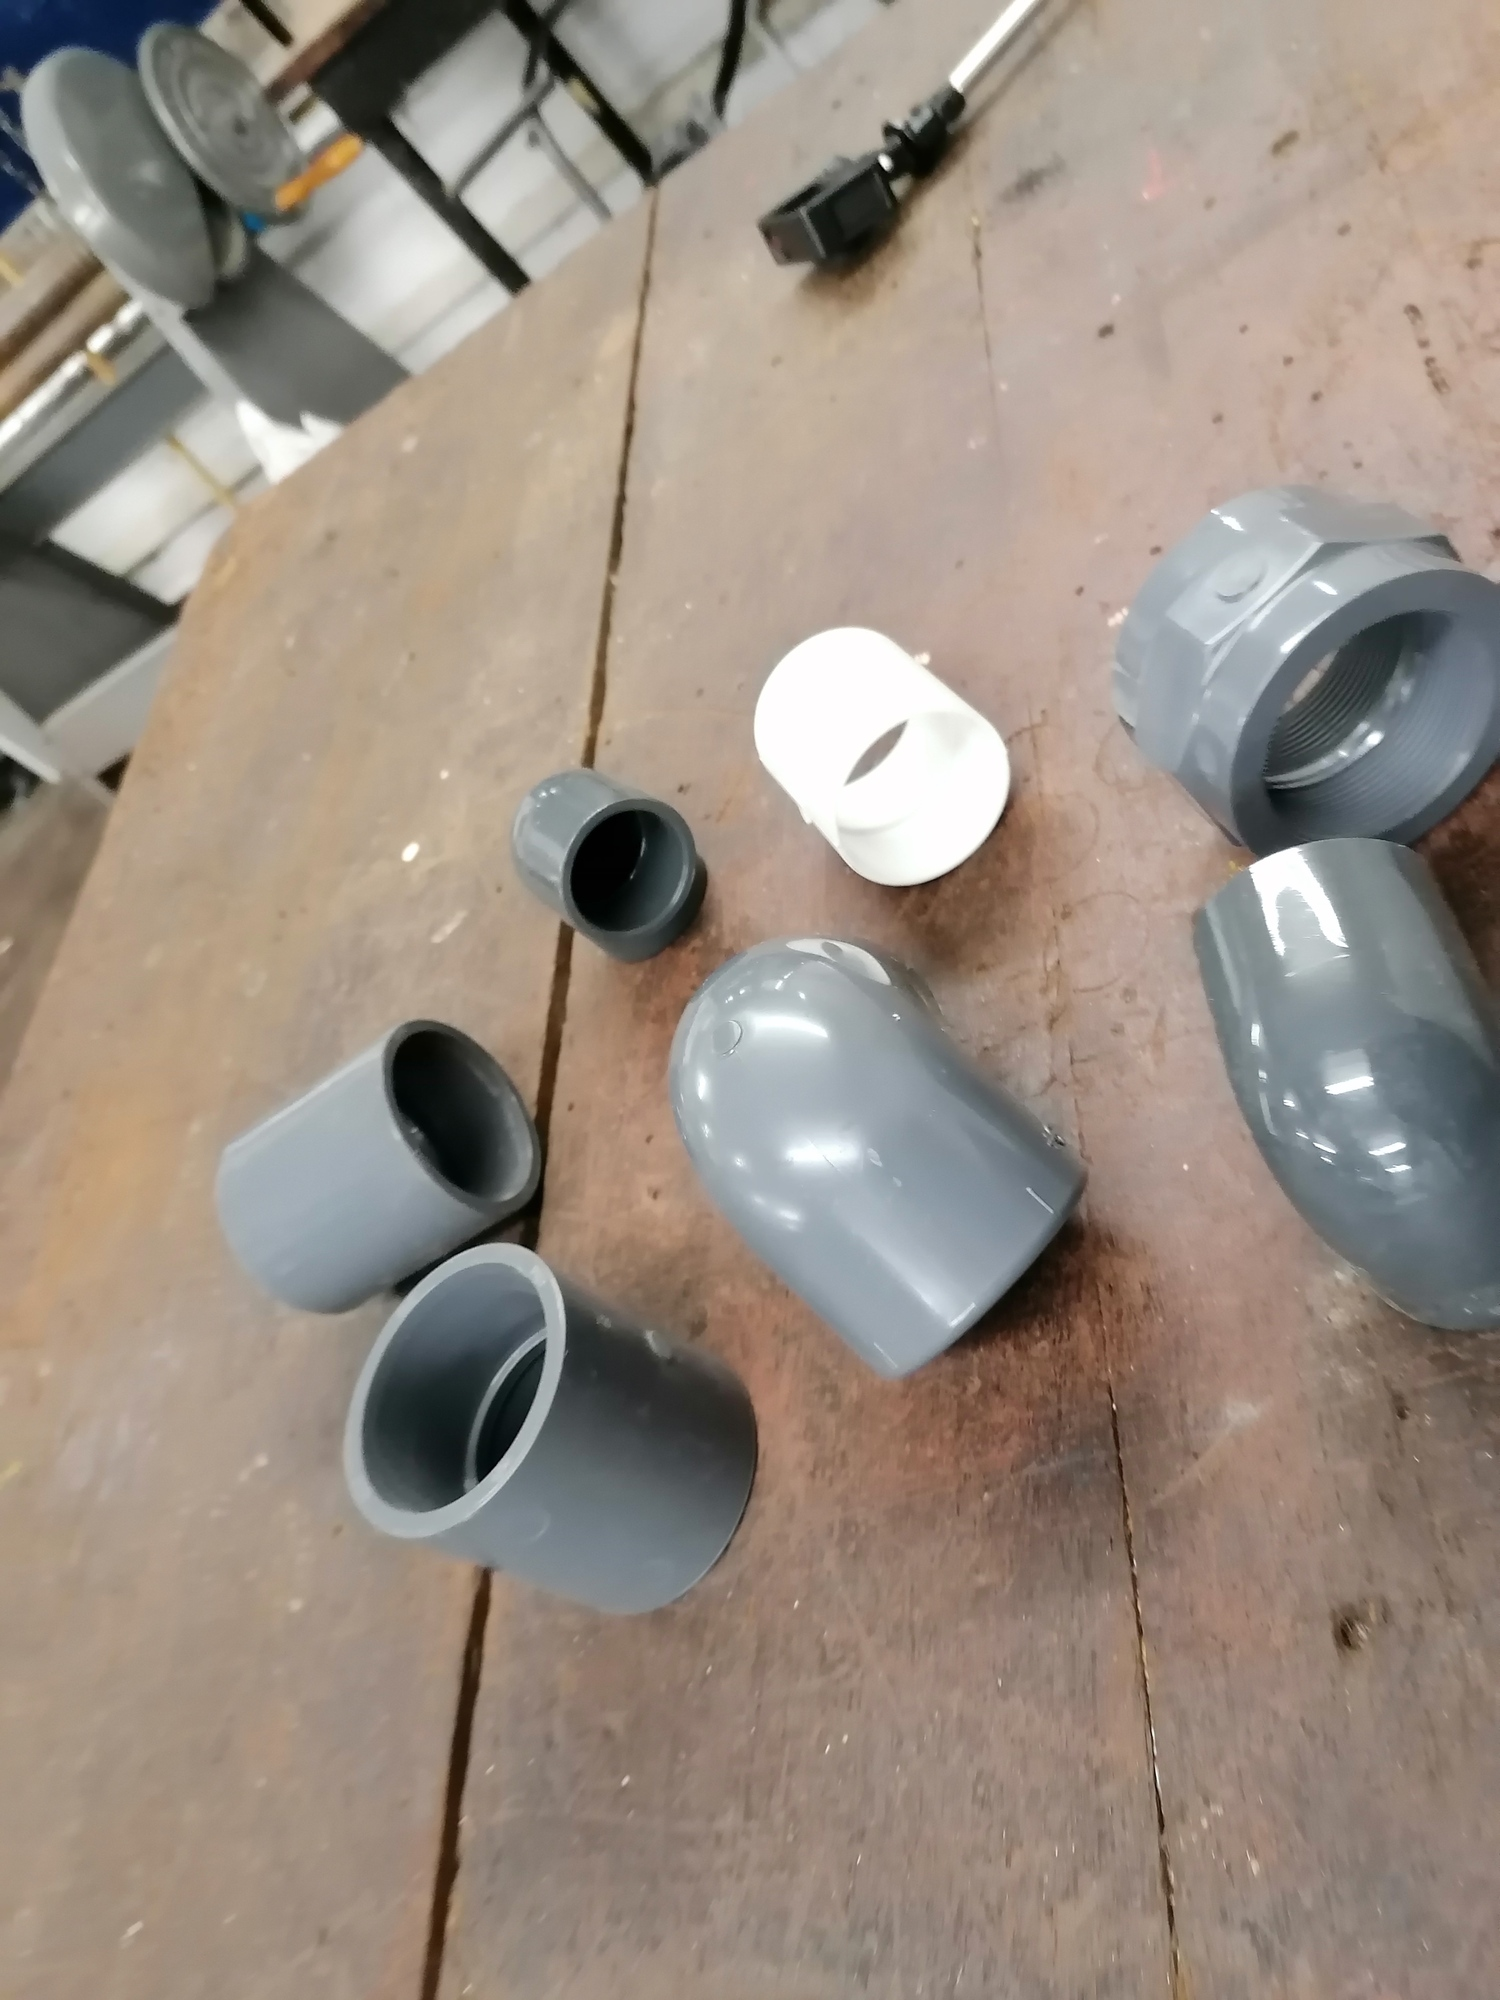nut: (1109, 476, 1497, 858)
pipe: (660, 928, 1097, 1386), (340, 1239, 759, 1620), (1186, 838, 1500, 1340), (208, 1017, 542, 1318), (750, 624, 1015, 888), (509, 765, 707, 962)
